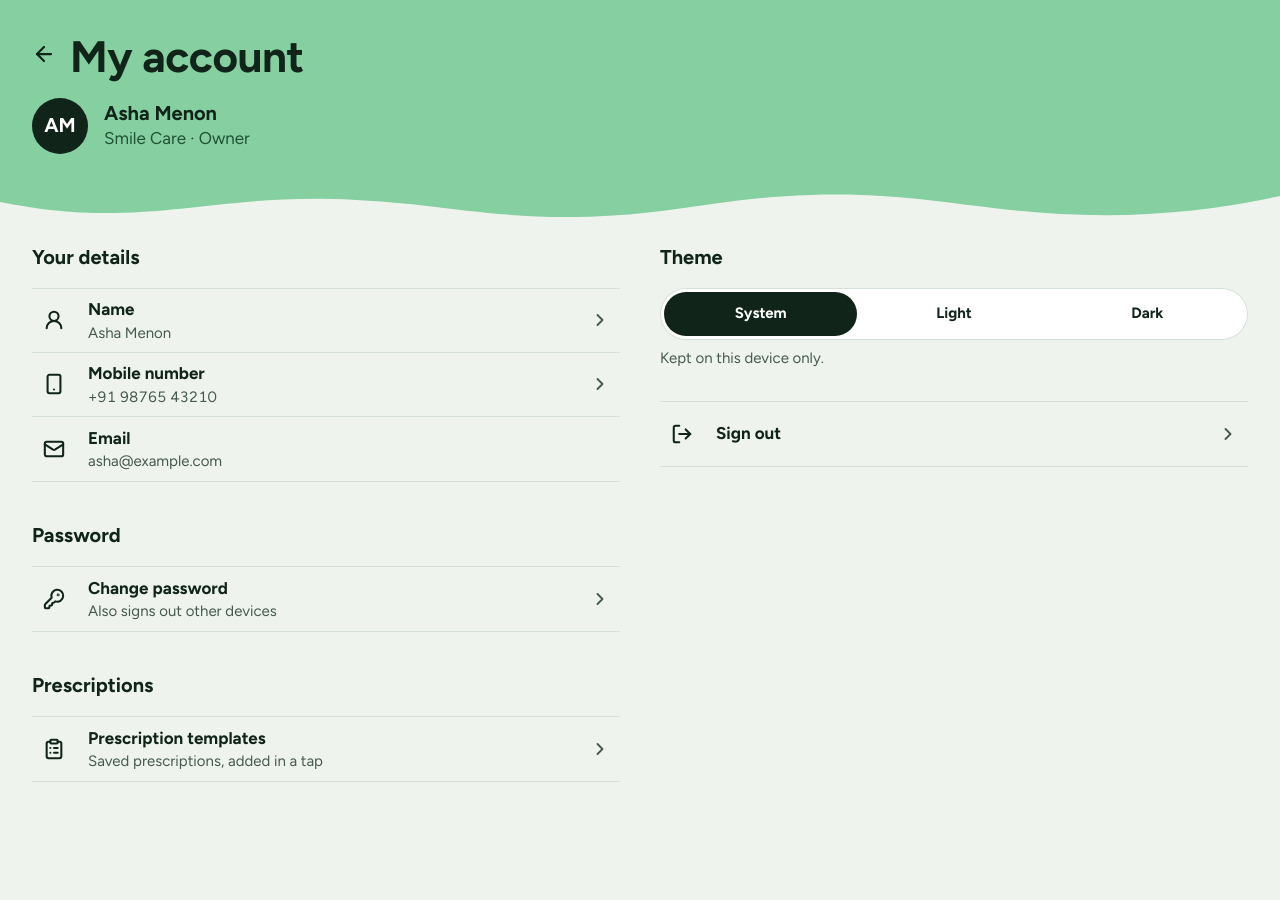
Test case: MyAccount › shows their details: the name and mobile each open a sheet, the email is only shown
The width and height of the screenshot is (1280, 900).
Expected: the element "Your details" shows "Asha Menon", [88,324,171,342]
Expected: the element "Your details" shows "+91 98765 43210", [88,388,217,406]
Click the button "Name".
click(111, 309)  # box [88,297,578,322]
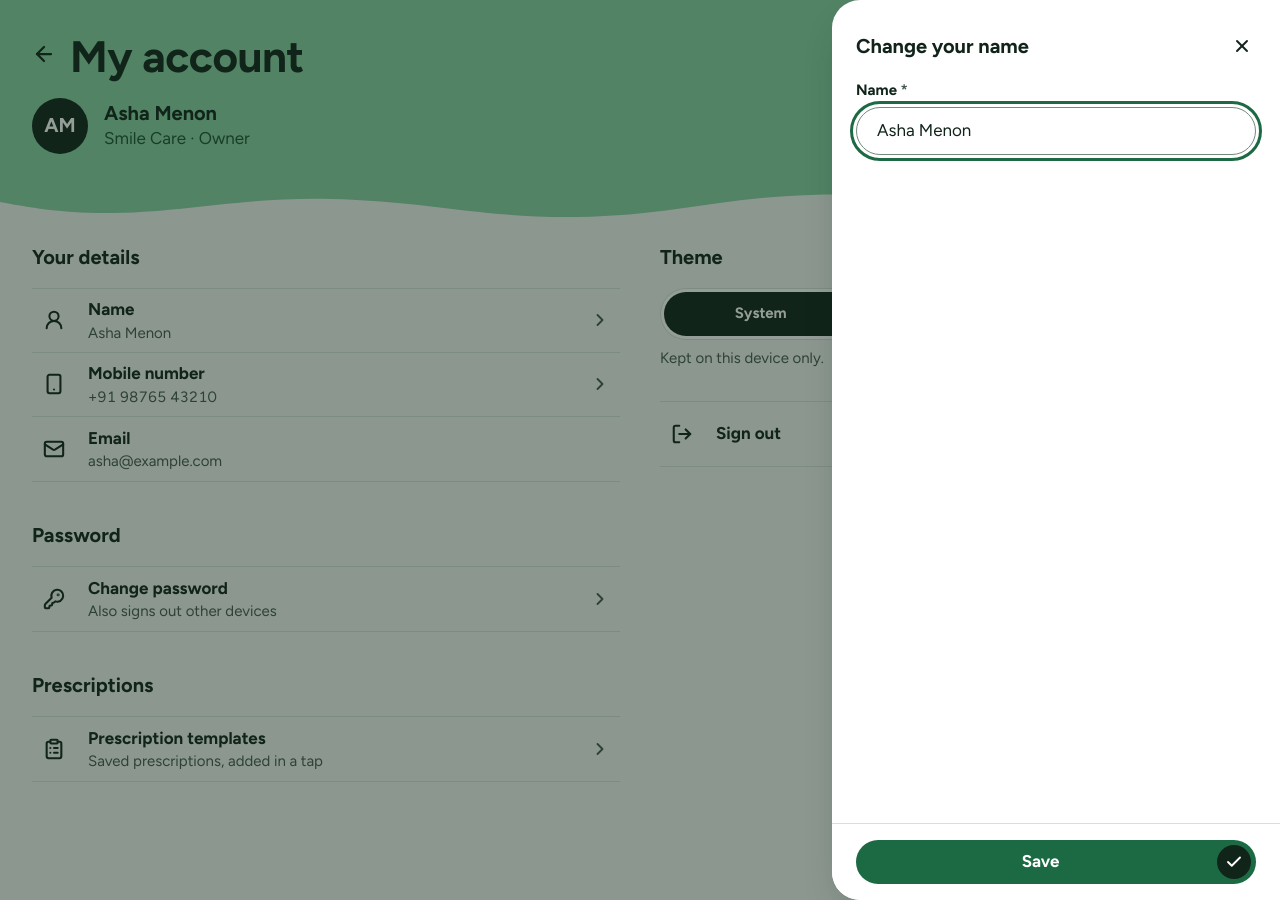
Expected: the field labelled "Name *" holds "Asha Menon", [856,107,1256,155]
Click the button named "Close".
click(1242, 46)  # box [1220,24,1264,68]
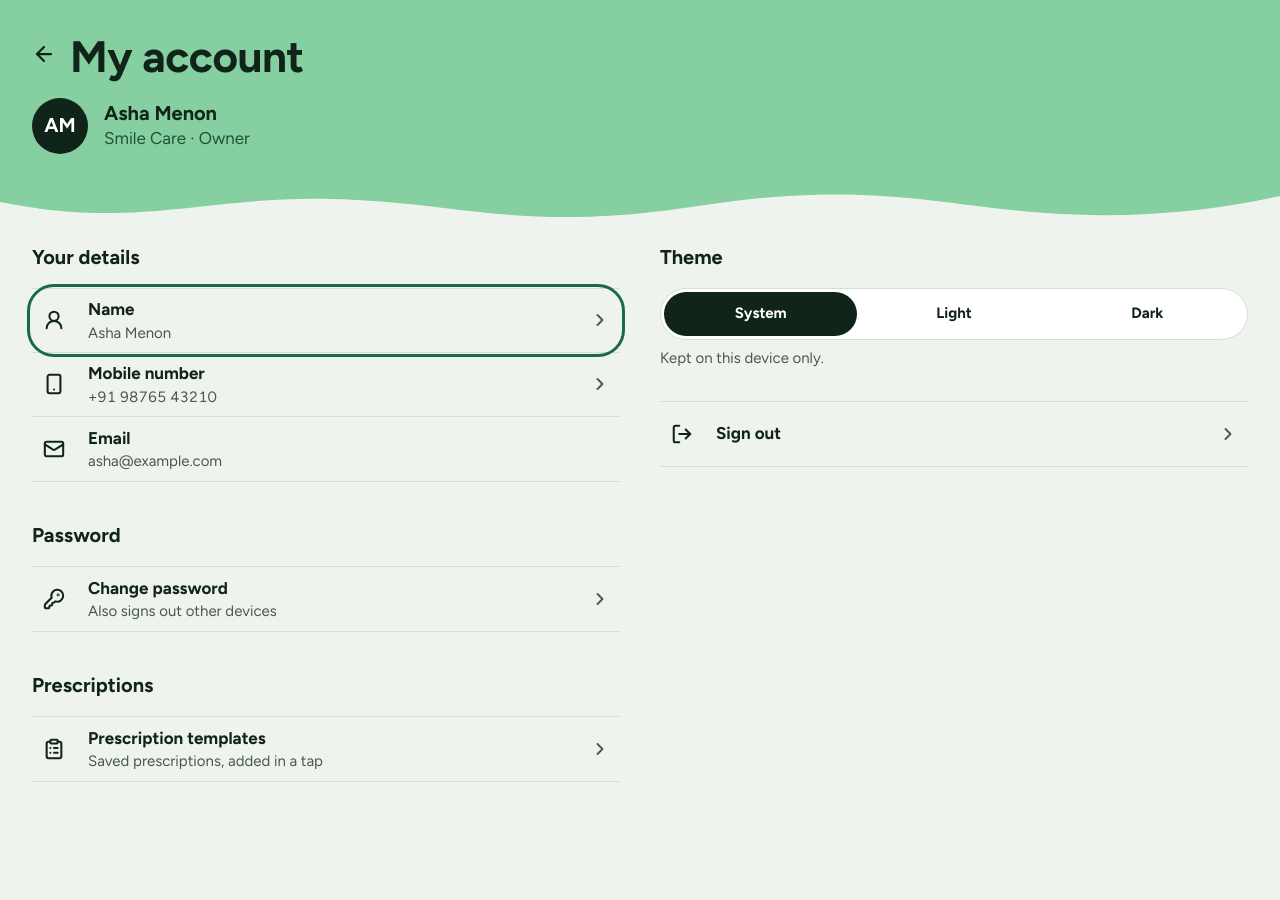
Expected: the dialog is gone
Click the button "Mobile number".
click(146, 373)  # box [88,361,578,386]
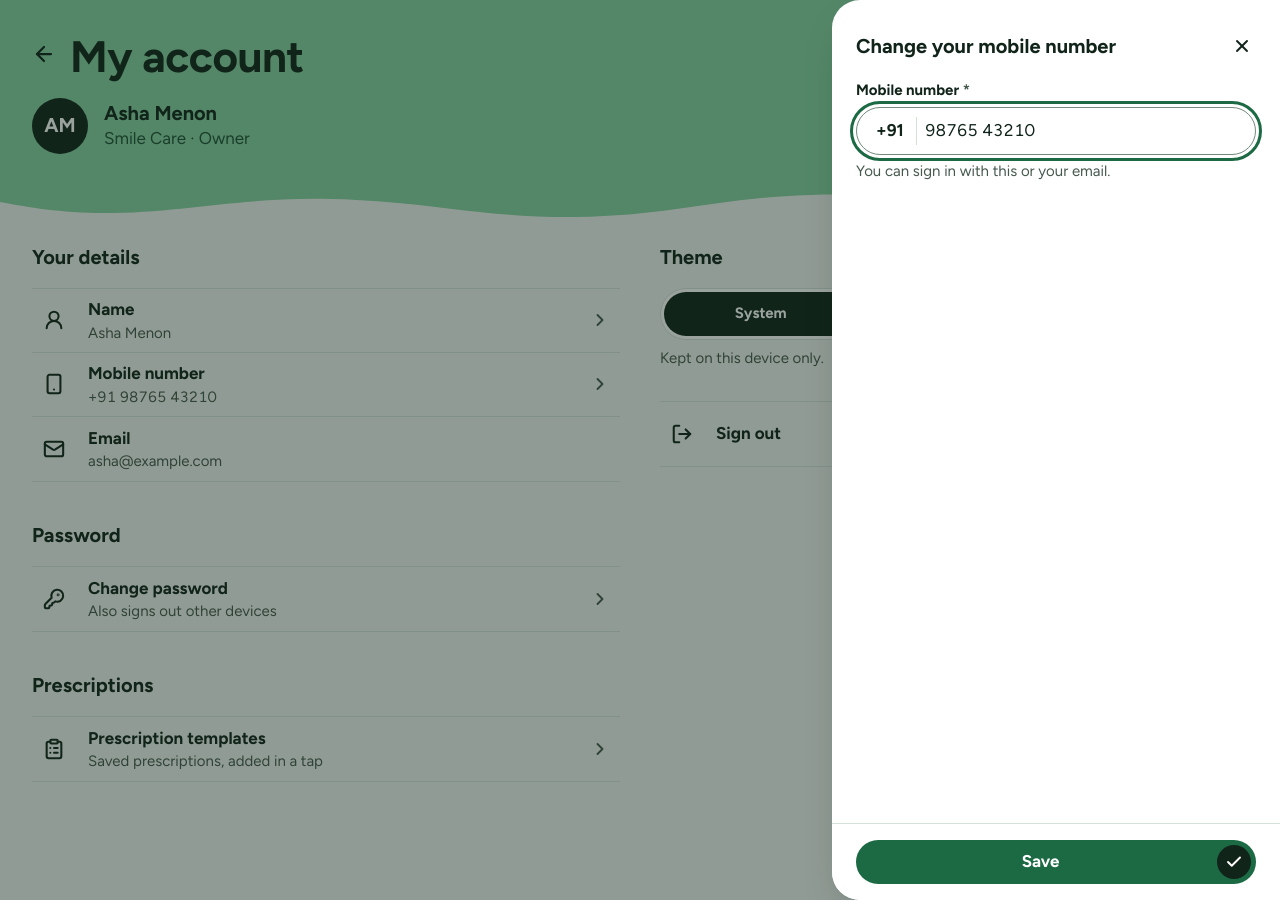
Expected: the field labelled "Mobile number *" holds "98765 43210", [856,107,1256,155]
